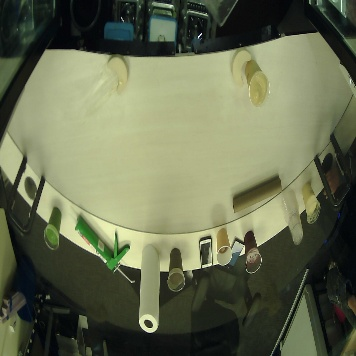empty_cup: (282, 190, 304, 245)
full_cup: (246, 59, 270, 109), (43, 205, 62, 251), (242, 230, 262, 273), (166, 248, 186, 291), (301, 182, 321, 223)
puck: (107, 54, 129, 95), (229, 47, 251, 88)
